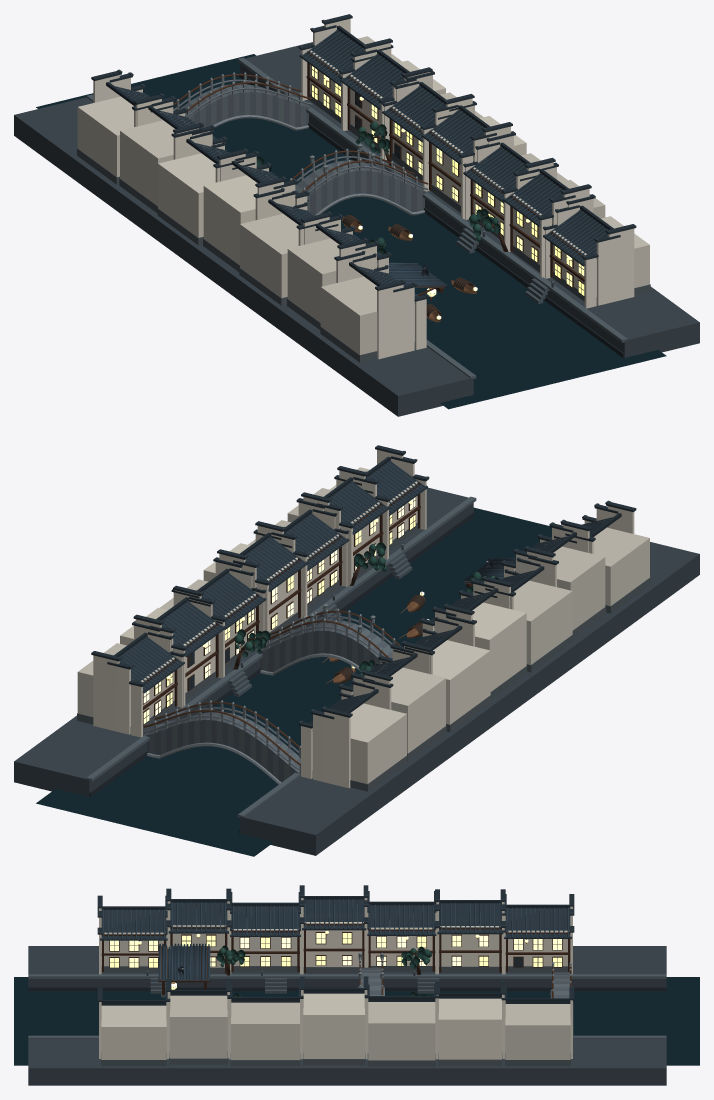
The model's file is jiangnan-river.glb.
The picture shows the model from 3 angles, top to bottom: view 1: azimuth 30°, elevation 25°; view 2: azimuth 150°, elevation 25°; view 3: azimuth 270°, elevation 25°; orthographic projection. The views are drawn at different scales.
Parts seen in each view (by area): view 1: River_Bank_Left_Plaster, River_Bed, River_Bank_Left_Granite, River_Bank_Right_Tiles, River_Bank_Right_Plaster, River_Bank_Right_Granite, River_Bank_Left_Tiles, River_Arched_Bridge_Masonry, River_Bank_Right_Timber, River_Distant_Bridge_Masonry, River_Bank_Right_WinGlow, River_Bank_Right_Willows (+1 smaller); view 2: River_Bank_Left_Plaster, River_Bed, River_Bank_Left_Granite, River_Bank_Right_Tiles, River_Bank_Right_Plaster, River_Bank_Right_Granite, River_Bank_Left_Tiles, River_Distant_Bridge_Masonry, River_Arched_Bridge_Masonry, River_Bank_Right_Timber, River_Bank_Right_WinGlow, River_Bank_Right_Willows (+1 smaller); view 3: River_Bank_Right_Plaster, River_Bank_Right_Granite, River_Bank_Left_Granite, River_Bank_Left_Tiles, River_Bed, River_Bank_Left_Plaster, River_Bank_Left_Timber, River_Bank_Right_Tiles, River_Bank_Left_WinGlow, Eave_Clay_Tiles, River_Bank_Left_Willows, River_Arched_Bridge_Masonry (+2 smaller).
Boxes of the visible parts, x1=… form: River_Bank_Left_Plaster: x1=77, y1=75, x2=426, y2=359; River_Bed: x1=36, y1=54, x2=666, y2=409; River_Bank_Left_Granite: x1=14, y1=94, x2=476, y2=416; River_Bank_Right_Tiles: x1=298, y1=14, x2=636, y2=266; River_Bank_Right_Plaster: x1=301, y1=18, x2=649, y2=308; River_Bank_Right_Granite: x1=237, y1=42, x2=699, y2=358; River_Bank_Left_Tiles: x1=91, y1=69, x2=429, y2=304; River_Arched_Bridge_Masonry: x1=289, y1=143, x2=428, y2=215; River_Bank_Right_Timber: x1=306, y1=51, x2=584, y2=296; River_Distant_Bridge_Masonry: x1=173, y1=72, x2=312, y2=130; River_Bank_Right_WinGlow: x1=312, y1=66, x2=584, y2=295; River_Bank_Right_Willows: x1=356, y1=121, x2=500, y2=241; River_Bank_Left_Plaster: x1=301, y1=506, x2=649, y2=788; River_Bed: x1=36, y1=507, x2=551, y2=856; River_Bank_Left_Granite: x1=237, y1=542, x2=699, y2=855; River_Bank_Right_Tiles: x1=91, y1=445, x2=429, y2=693; River_Bank_Right_Plaster: x1=77, y1=449, x2=426, y2=737; River_Bank_Right_Granite: x1=14, y1=487, x2=476, y2=797; River_Bank_Left_Tiles: x1=298, y1=500, x2=636, y2=731; River_Distant_Bridge_Masonry: x1=143, y1=700, x2=300, y2=784; River_Arched_Bridge_Masonry: x1=257, y1=603, x2=395, y2=675; River_Bank_Right_Timber: x1=143, y1=482, x2=420, y2=725; River_Bank_Right_WinGlow: x1=143, y1=497, x2=415, y2=723; River_Bank_Right_Willows: x1=234, y1=542, x2=387, y2=657; River_Bank_Right_Plaster: x1=99, y1=990, x2=572, y2=1060; River_Bank_Right_Granite: x1=28, y1=1035, x2=666, y2=1085; River_Bank_Left_Granite: x1=28, y1=946, x2=666, y2=993; River_Bank_Left_Tiles: x1=97, y1=885, x2=574, y2=940; River_Bed: x1=14, y1=977, x2=699, y2=1065; River_Bank_Left_Plaster: x1=99, y1=898, x2=572, y2=974; River_Bank_Left_Timber: x1=101, y1=923, x2=570, y2=975; River_Bank_Right_Tiles: x1=97, y1=976, x2=574, y2=1005; River_Bank_Left_WinGlow: x1=110, y1=933, x2=561, y2=967; Eave_Clay_Tiles: x1=158, y1=943, x2=210, y2=980; River_Bank_Left_Willows: x1=216, y1=945, x2=432, y2=969; River_Arched_Bridge_Masonry: x1=358, y1=952, x2=384, y2=995.
Size of the model in its own units: 30.4 by 10.27 by 72.
